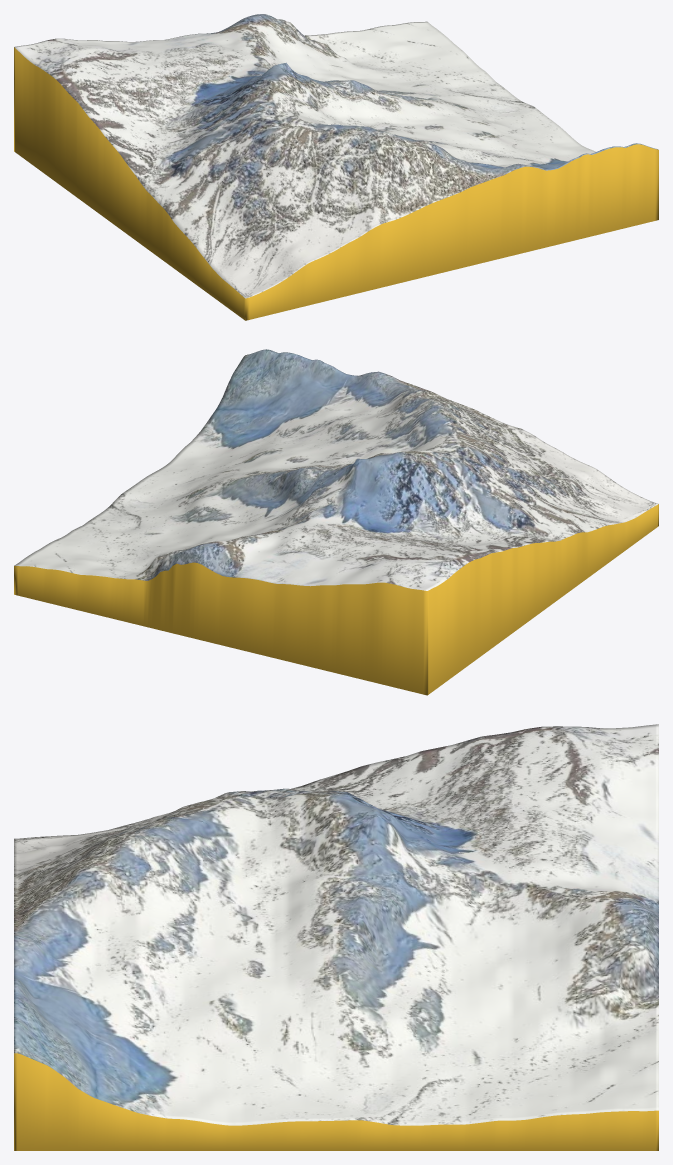
File: MapaIce.fbx
3 renders of one model, top to bottom at view 1: azimuth 30°, elevation 25°; view 2: azimuth 150°, elevation 25°; view 3: azimuth 270°, elevation 25°, orthographic. The views are drawn at different scales.
Parts seen in each view (by area): view 1: EXPORT_GOOGLE_SAT_WM; view 2: EXPORT_GOOGLE_SAT_WM; view 3: EXPORT_GOOGLE_SAT_WM.
Part boxes in pixels (left/top/right/bottom): EXPORT_GOOGLE_SAT_WM: left=14, top=14, right=658, bottom=320; EXPORT_GOOGLE_SAT_WM: left=14, top=349, right=658, bottom=695; EXPORT_GOOGLE_SAT_WM: left=14, top=724, right=658, bottom=1150.
Bounding box in the file's own units: 189182 × 53568 × 183449.
